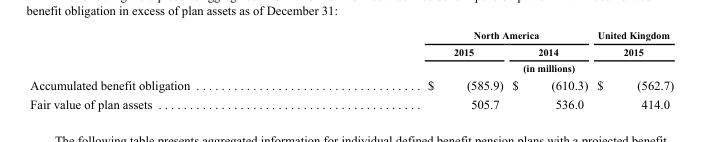table: (29, 29, 673, 111)
table column: (29, 29, 308, 111), (308, 29, 507, 111), (507, 29, 591, 111), (591, 29, 673, 111)
table column header: (29, 29, 673, 75)
table row: (29, 75, 673, 94), (29, 42, 673, 59), (29, 94, 673, 111), (29, 59, 673, 75), (29, 29, 673, 42)
table spanning cell: (308, 59, 673, 75), (308, 29, 591, 42), (591, 29, 673, 59)
